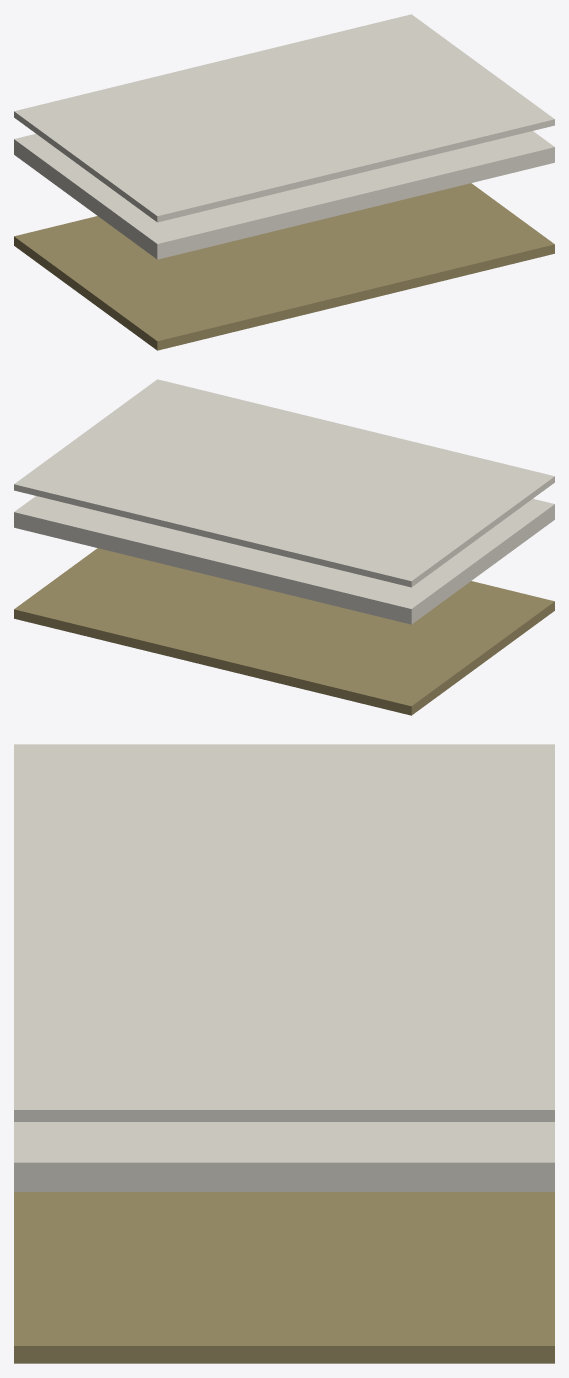
File: evac_tent_lod1.glb
3 views of the same model, one above another, from view 1: azimuth 30°, elevation 25°; view 2: azimuth 150°, elevation 25°; view 3: azimuth 270°, elevation 25° (orthographic). The views are drawn at different scales.
Parts seen in each view (by area): view 1: evac_tent_lod1; view 2: evac_tent_lod1; view 3: evac_tent_lod1.
Part boxes in pixels (<box>): evac_tent_lod1: <box>14,14,554,350</box>; evac_tent_lod1: <box>14,379,554,715</box>; evac_tent_lod1: <box>14,744,554,1363</box>.
Size of what is drawn, in the model's own units: 8 by 2.59 by 5.
2 materials, 2 textured.
